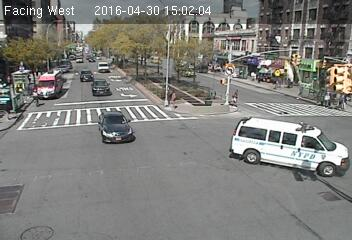neg: (245, 123, 280, 169), (119, 115, 147, 153), (172, 179, 194, 209), (84, 101, 102, 125), (116, 56, 132, 78), (181, 58, 194, 76), (211, 143, 223, 159), (52, 88, 62, 101), (107, 50, 116, 62), (216, 61, 225, 73)
pos: (227, 85, 245, 109), (333, 94, 351, 118), (26, 87, 44, 110), (165, 86, 180, 106), (322, 90, 335, 107)
